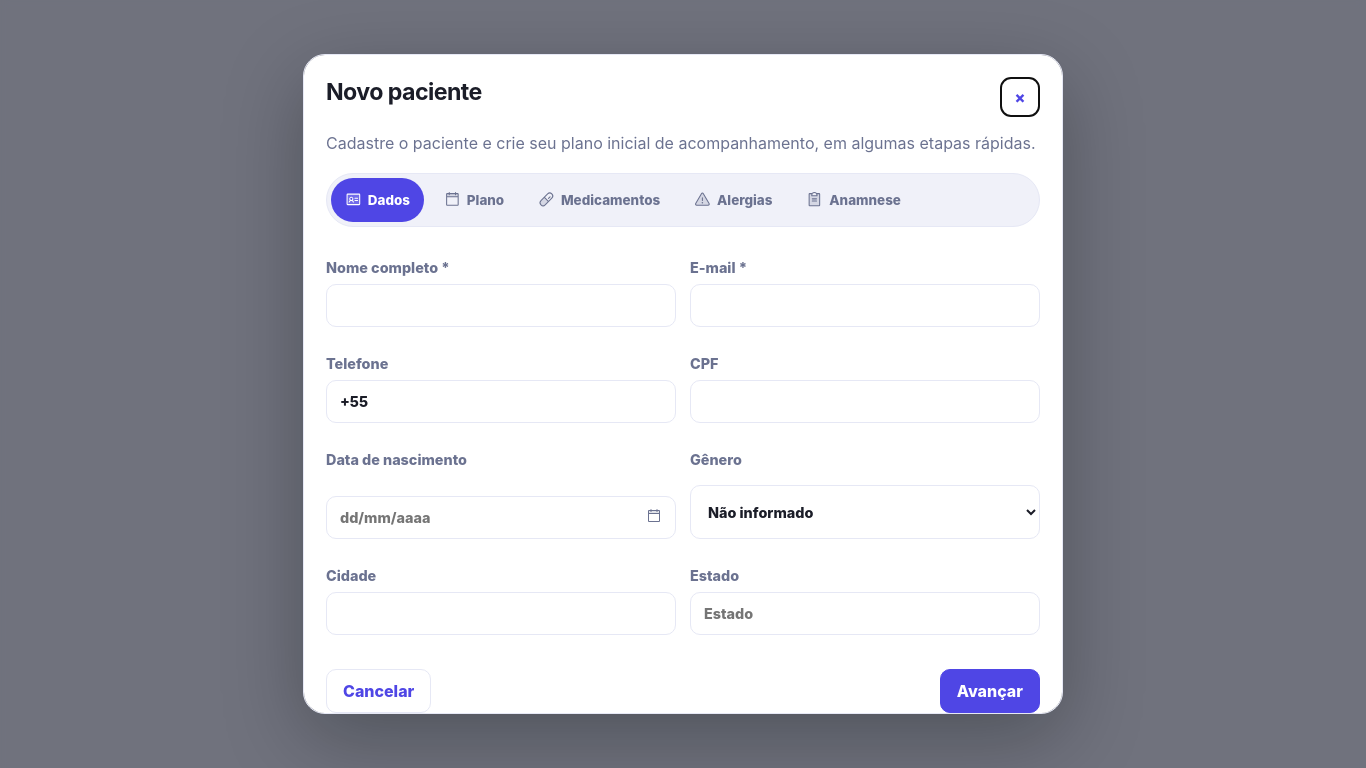
Test case: cadastro profissional de pacientes › renderiza e valida os campos obrigatórios e o formato do e-mail, indo para a primeira etapa com erro
Submit the form, box [326, 131, 1040, 713]
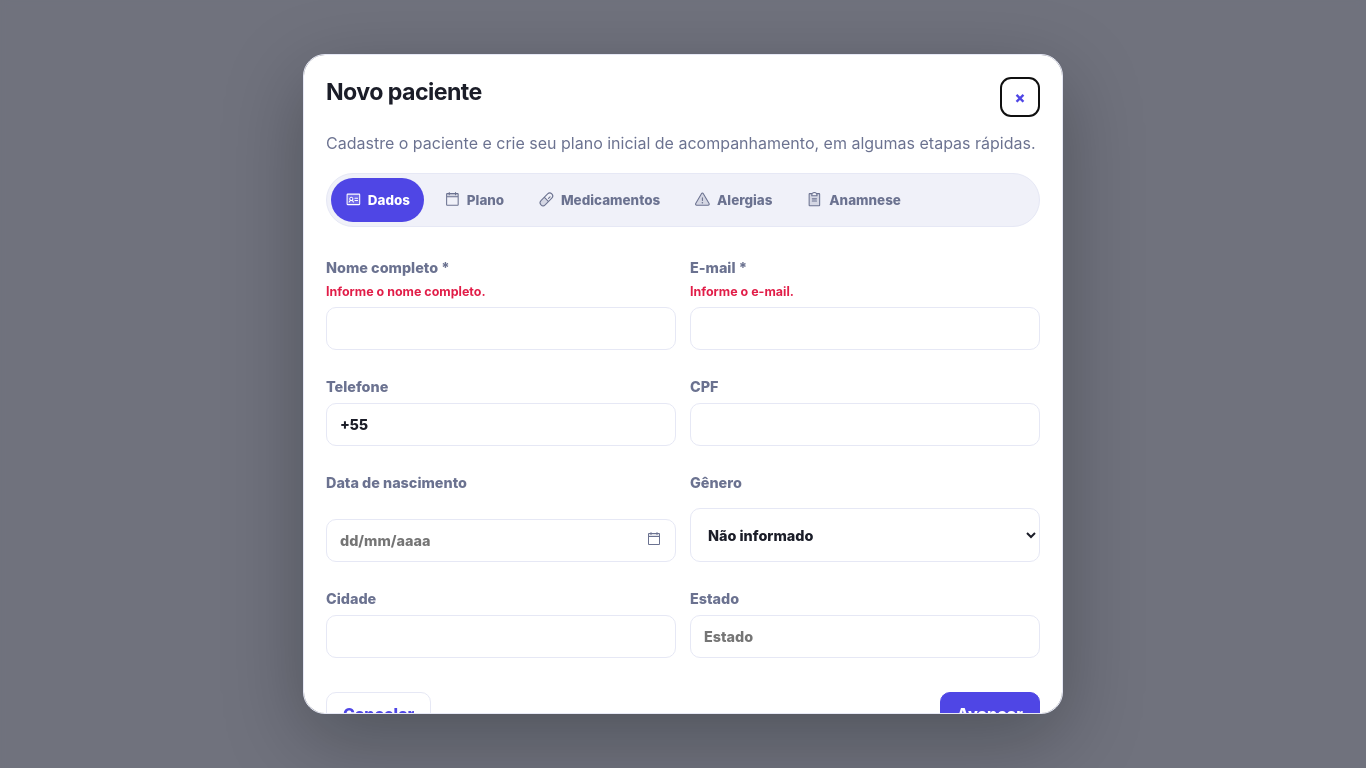
Result: the text "Informe o nome completo." is shown at [326, 284, 486, 299]
Result: the text "Informe o e-mail." is shown at [690, 284, 794, 299]
Click the button "Plano": (474, 200) [430, 178, 518, 222]
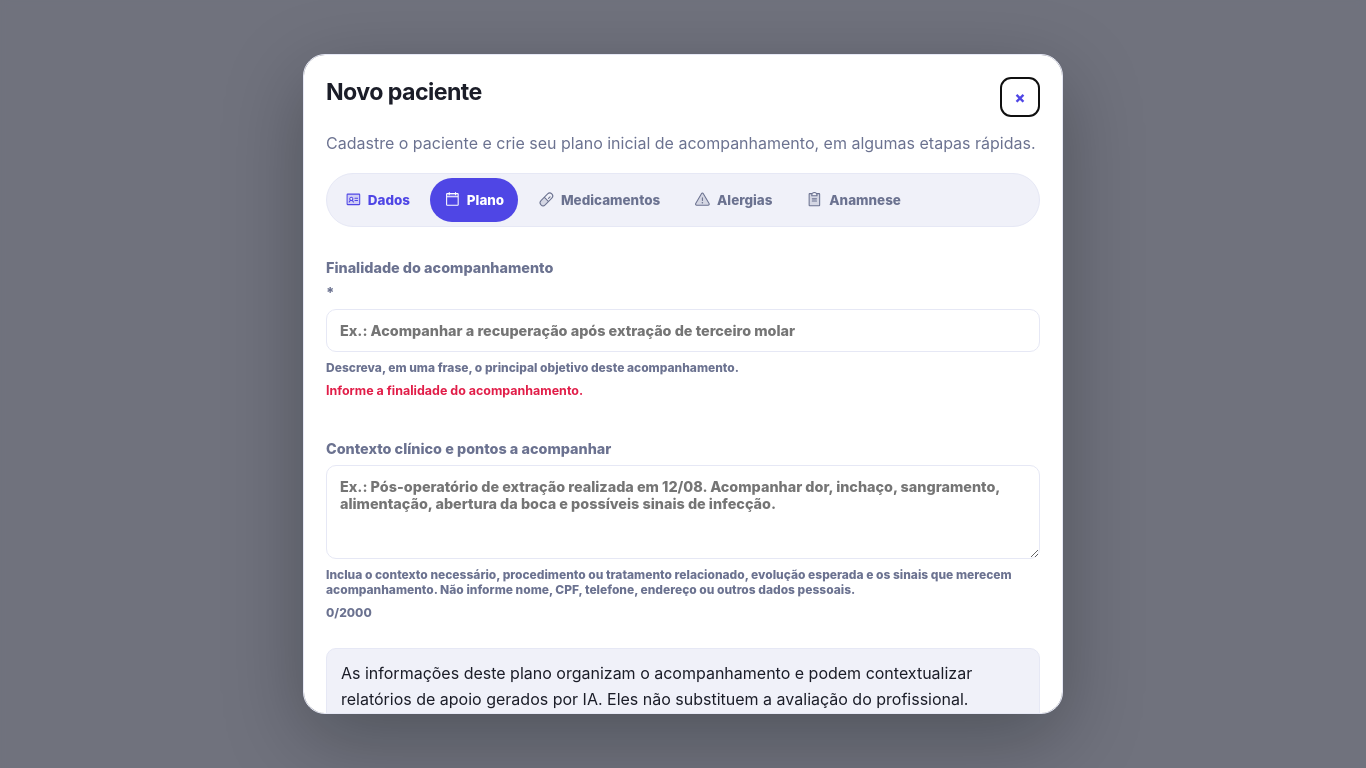
Result: the text "Informe a finalidade do acompanhamento." is shown at [326, 383, 583, 398]
Click the button "Dados": (378, 200) [331, 178, 424, 222]
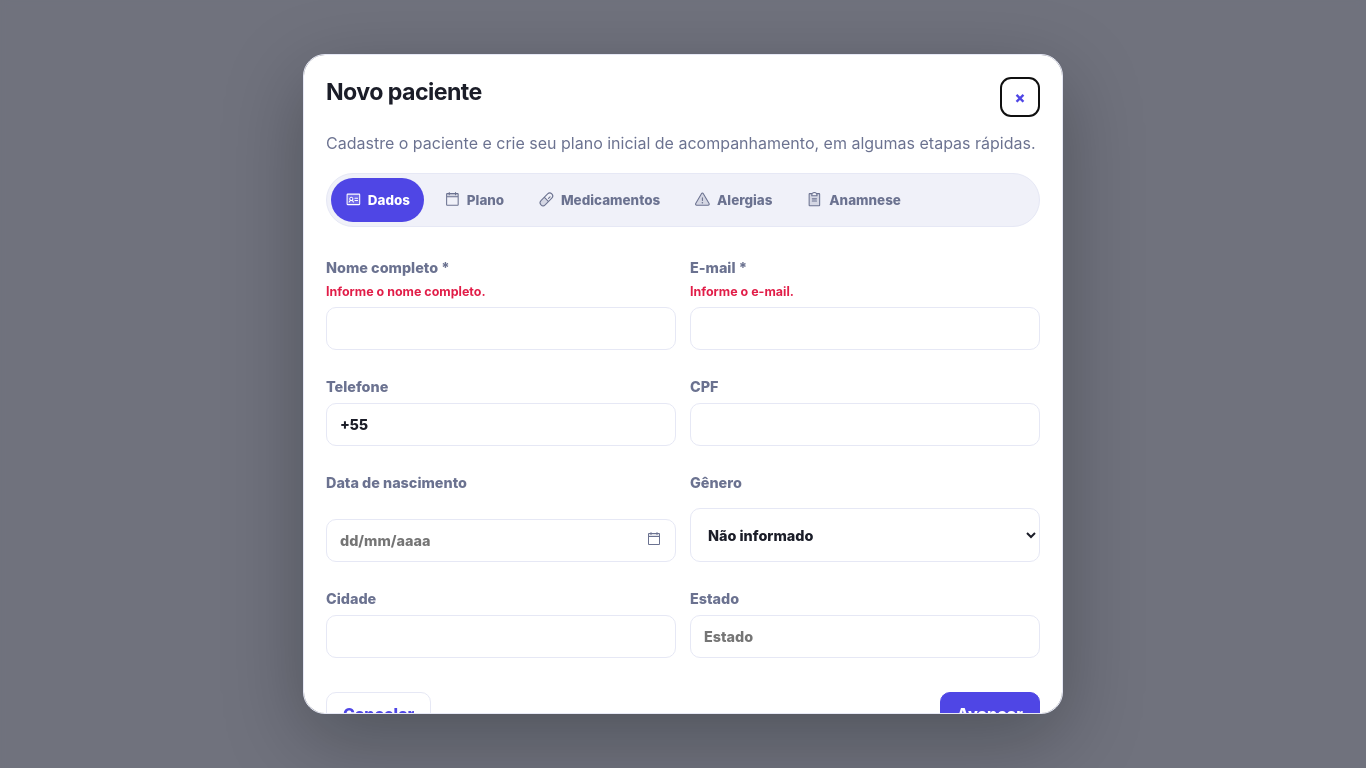
In the field labelled "E-mail * Informe o e-mail.": (865, 328) [690, 307, 1040, 350], type "inválido"
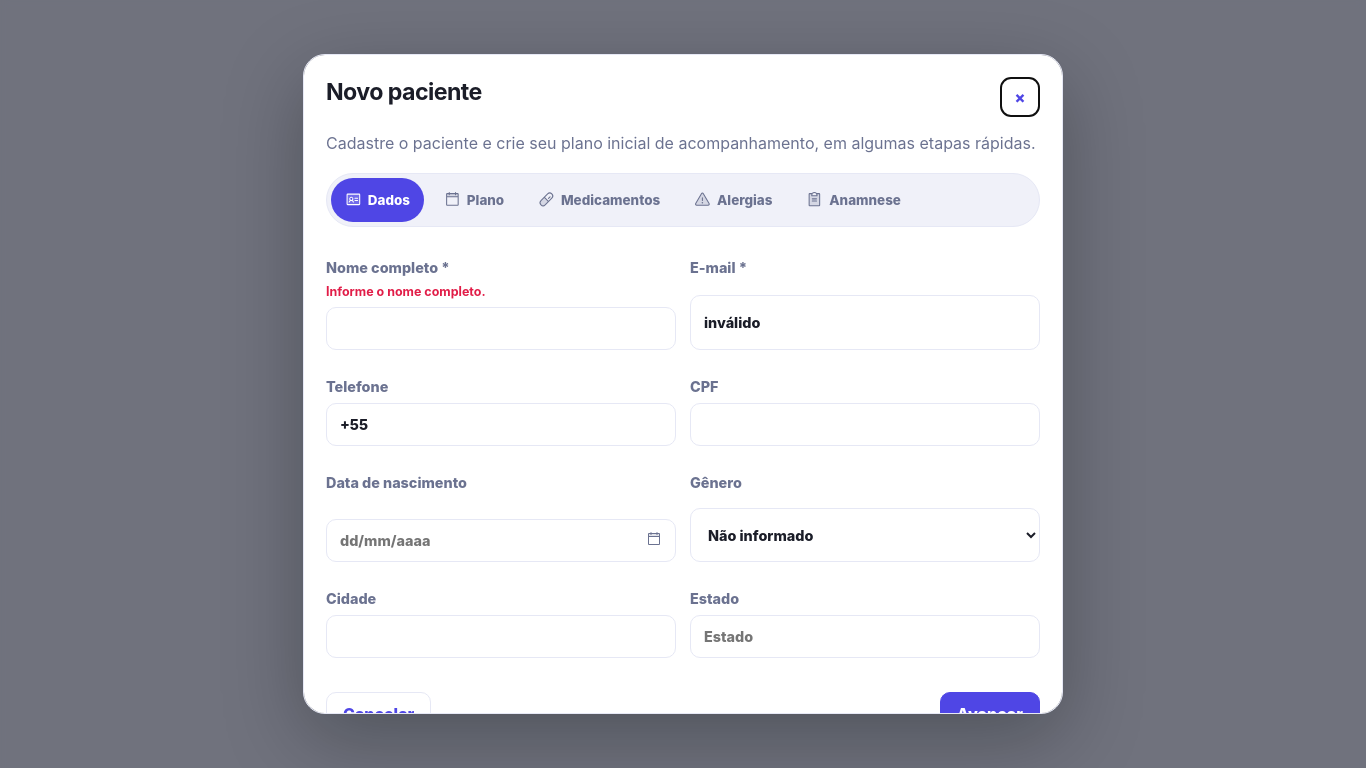
Submit the form, box [326, 131, 1040, 736]
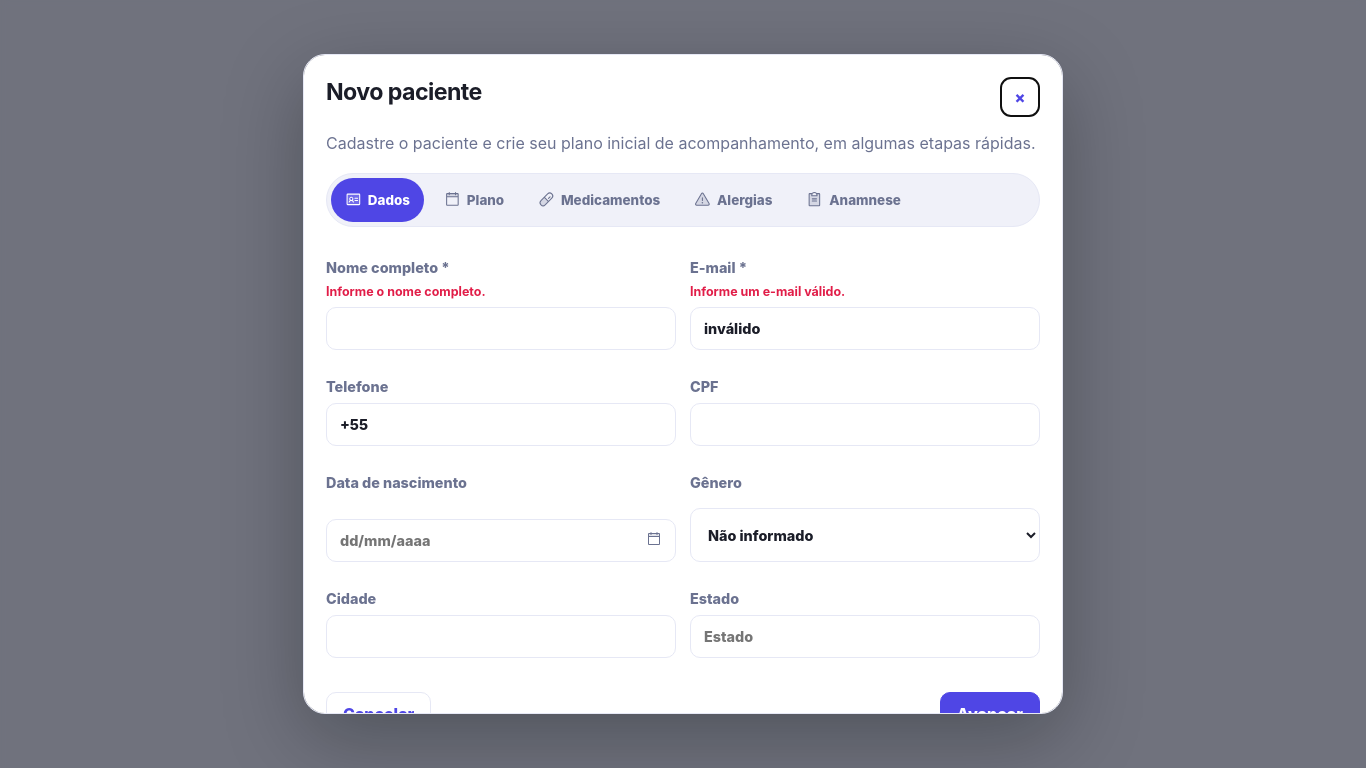
Result: the text "Informe um e-mail válido." is shown at [690, 284, 845, 299]
